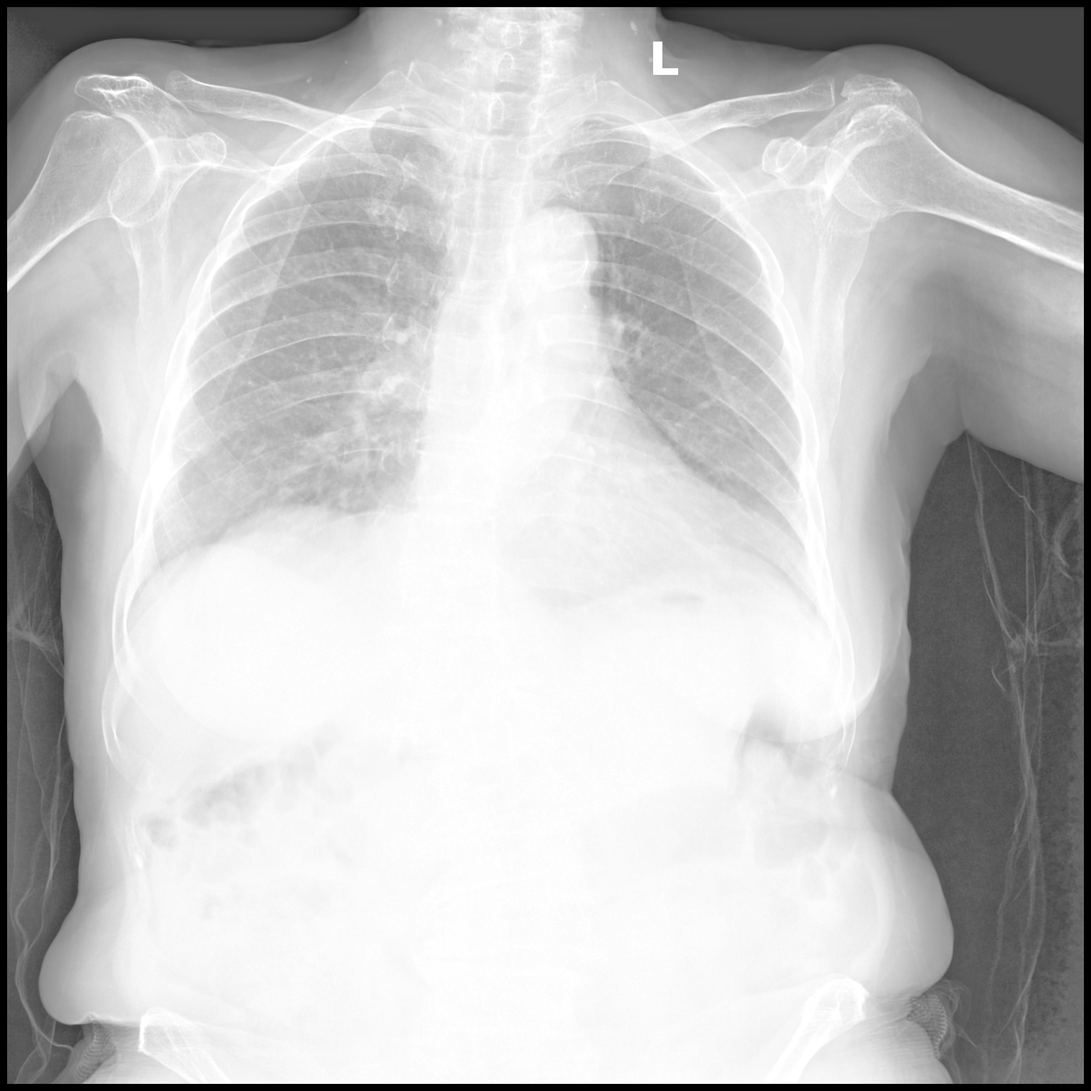Aortic enlargement: (512, 205, 605, 309)
Cardiomegaly: (407, 457, 818, 641)
